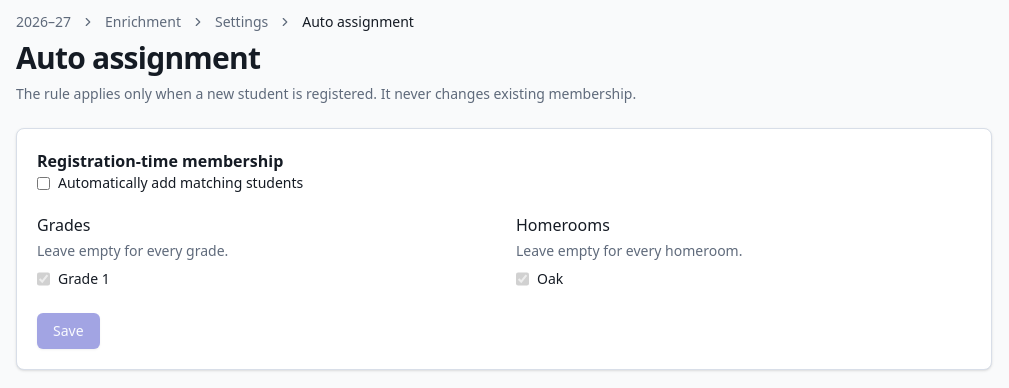
it: program navigation › disables criteria while automatic membership is off and preserves their selections
Expected: the checkbox labelled "Grade 1" is disabled, [37,269,50,289]
Expected: the checkbox labelled "Oak" is disabled, [516,269,529,289]
Click the checkbox labelled "Automatically add matching students": (44, 183) [37,176,50,190]
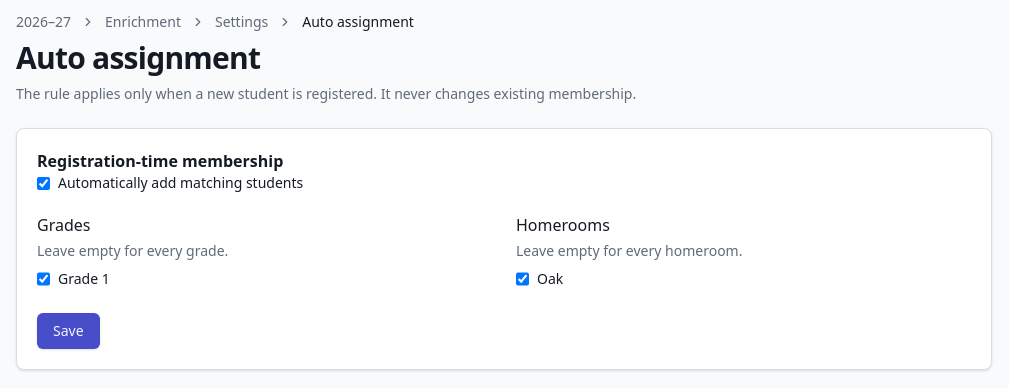
Expected: the checkbox labelled "Grade 1" is enabled, [37,269,50,289]
Result: the button "Save" is enabled at [37,313,100,349]
Click the checkbox labelled "Automatically add matching students": (44, 183) [37,176,50,190]
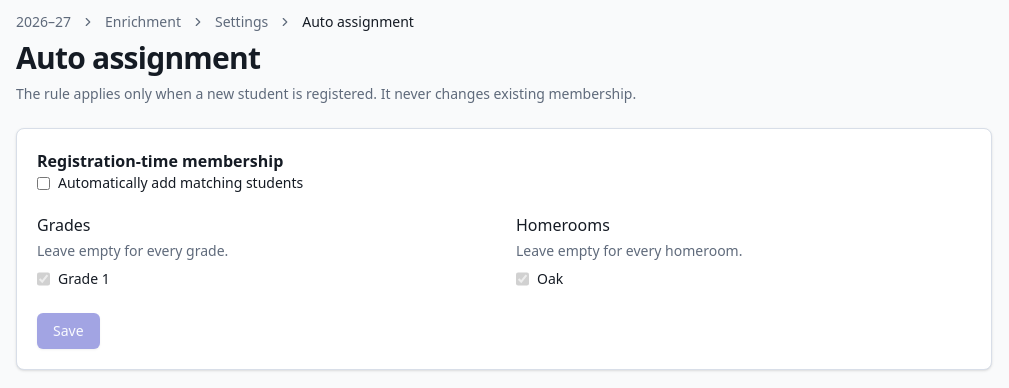
Expected: the checkbox labelled "Grade 1" is disabled, [37,269,50,289]
Result: the button "Save" is disabled at [37,313,100,349]
